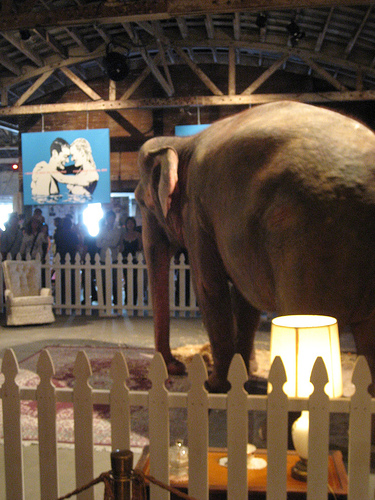elephant: (112, 89, 375, 390)
